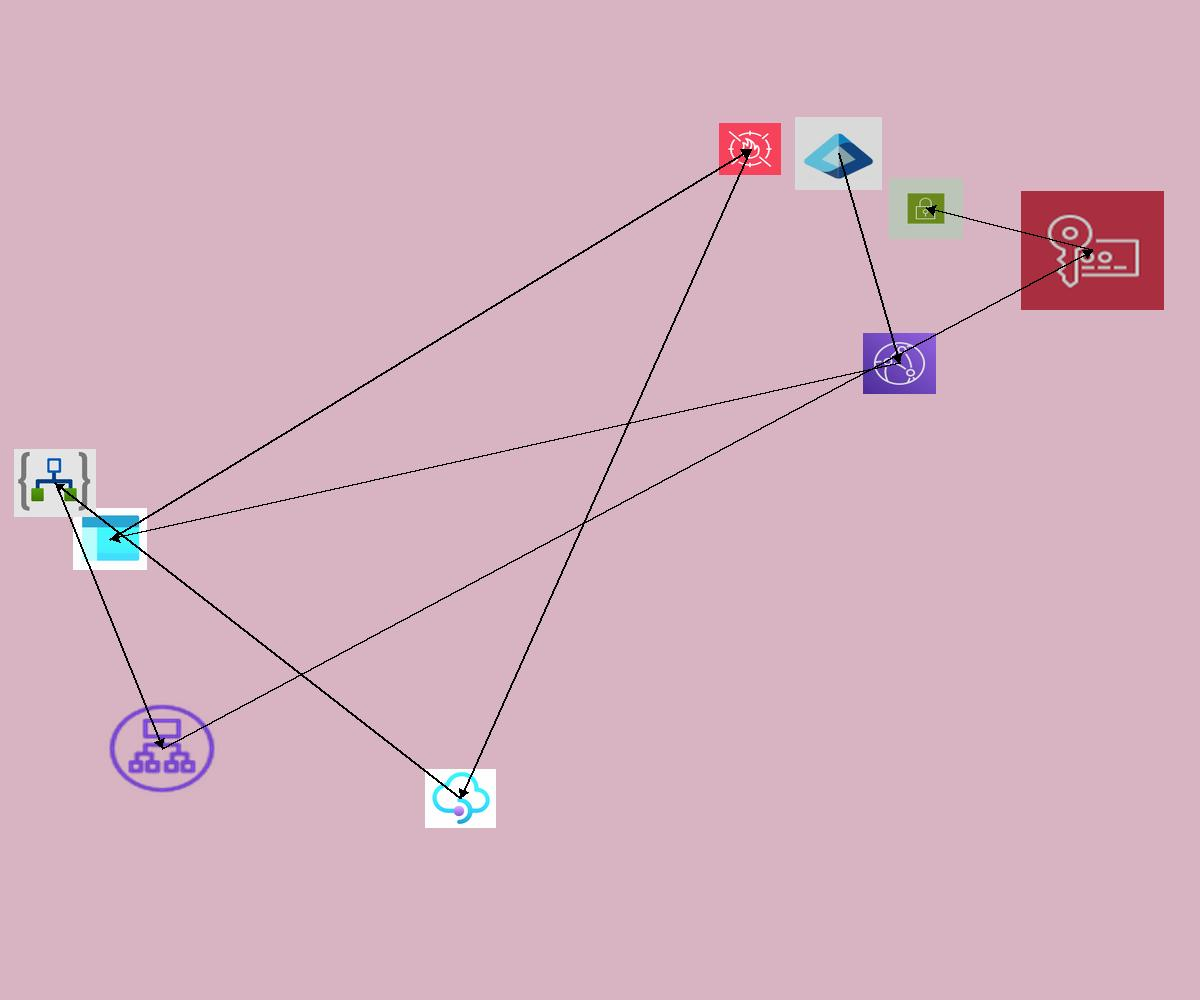AWS-CloudFront: (863, 333, 936, 394)
AWS-Key-Management-Service: (1021, 191, 1164, 310)
AWS-Public-subnet: (889, 178, 963, 239)
AWS-Res_Elastic-Load-Balancing_Application-Load-Balancer: (105, 701, 219, 796)
AWS-WAF: (719, 123, 781, 175)
Azure_api_gateway: (425, 769, 496, 828)
Azure_integration-204-Logic-Apps: (14, 449, 96, 517)
Azure_management-portal: (73, 508, 147, 570)
Azure_microsoft_entra: (795, 117, 882, 190)
